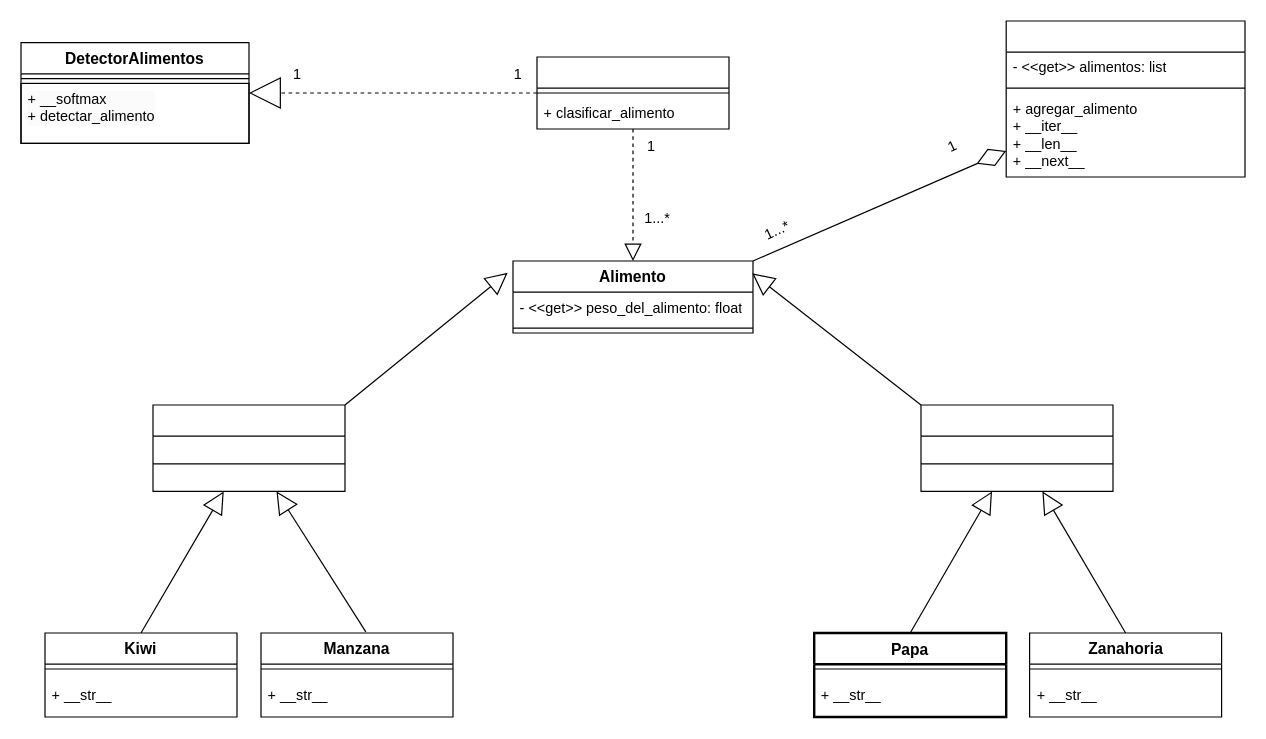
Image size: 1266x739. Some labels were removed from this diagram. The box of each missing label's shape, as (x1, y1, x2, y2) in pixels:
Cajón: (1005, 20, 1245, 177)
Cinta_Transportadora: (536, 56, 729, 129)
Fruta: (152, 404, 345, 491)
Verdura: (920, 404, 1113, 491)
